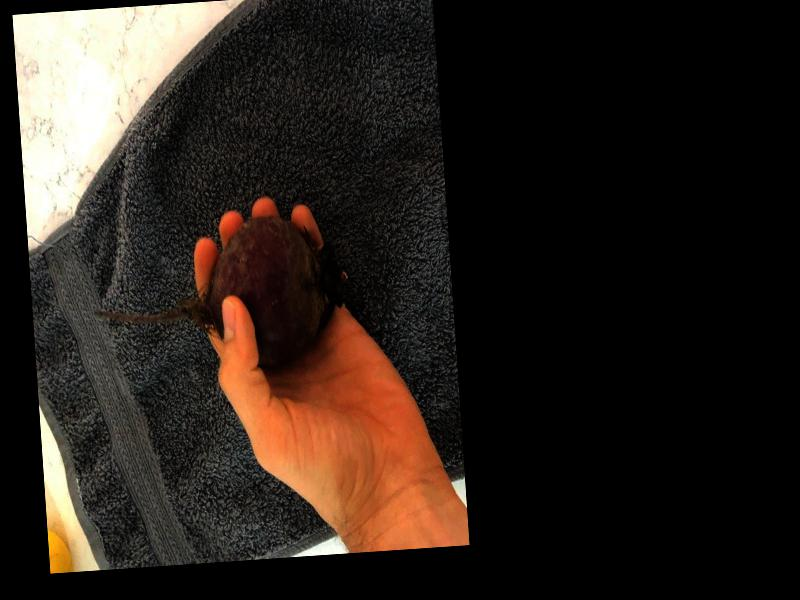Beet: (89, 209, 347, 379)
